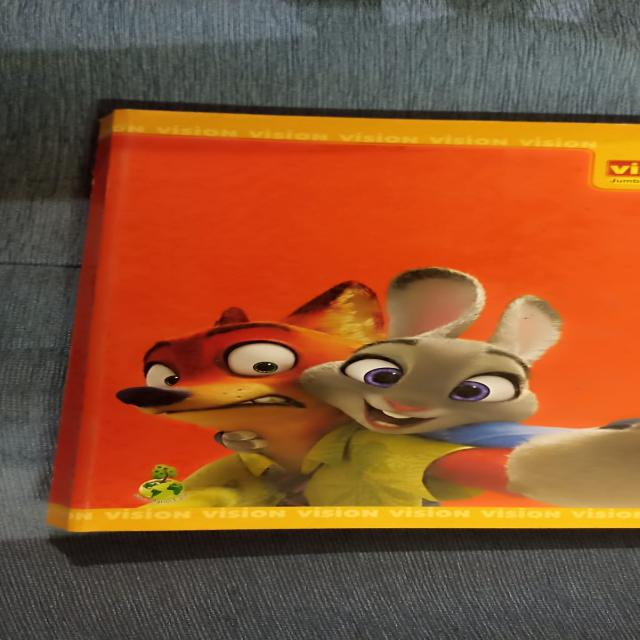book: (54, 100, 640, 536)
